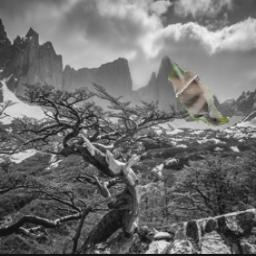Cuckoo: (169, 62, 230, 127)
